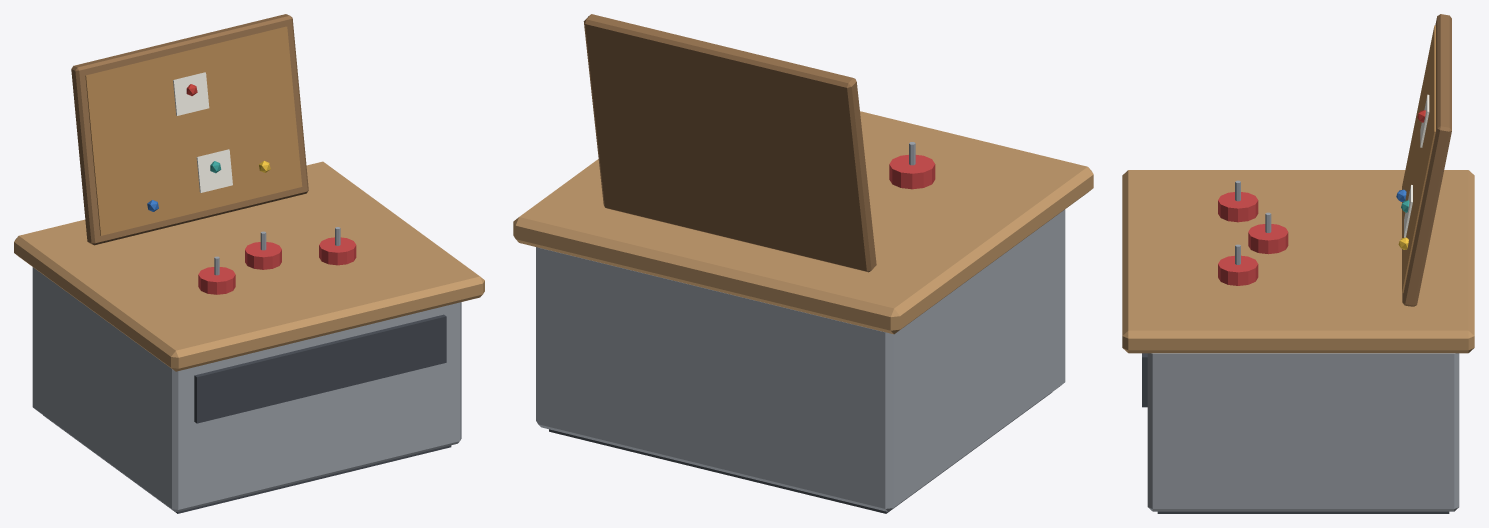
Rendered from thumbtacks_p0_3.glb.
3 views of the same model, side by side, from view 1: azimuth 30°, elevation 25°; view 2: azimuth 150°, elevation 25°; view 3: azimuth 270°, elevation 25° (orthographic). The views are drawn at different scales.
Visible parts, largest first — view 1: thumbtacks_p0_3_mesh_Desk, thumbtacks_p0_3_mesh; view 2: thumbtacks_p0_3_mesh_Desk, thumbtacks_p0_3_mesh; view 3: thumbtacks_p0_3_mesh_Desk, thumbtacks_p0_3_mesh.
Part boxes in pixels (x1,y1,x2,y2): thumbtacks_p0_3_mesh_Desk: (14, 161, 484, 513); thumbtacks_p0_3_mesh: (71, 14, 356, 294); thumbtacks_p0_3_mesh_Desk: (513, 111, 1093, 513); thumbtacks_p0_3_mesh: (583, 14, 935, 272); thumbtacks_p0_3_mesh_Desk: (1122, 170, 1474, 513); thumbtacks_p0_3_mesh: (1218, 14, 1451, 306).
Bounding box in the file's own units: 0.78 × 0.8151 × 0.7.
